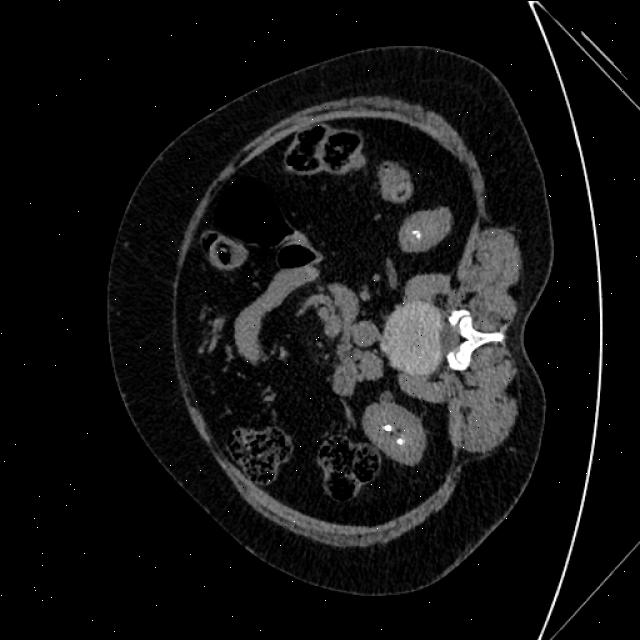kidneystone: (411, 229, 422, 239), (382, 424, 391, 431), (396, 438, 403, 444)
